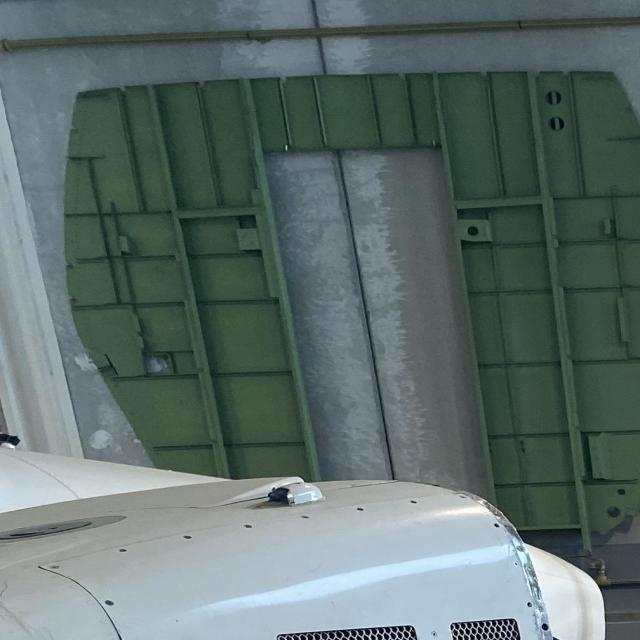Missing-head: (491, 520, 503, 531), (526, 601, 534, 608)
